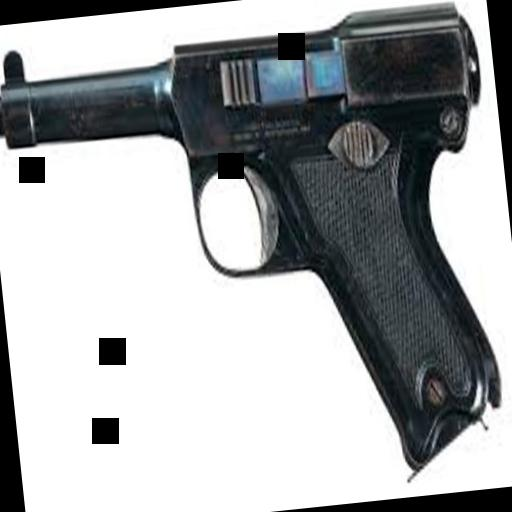Handgun: (0, 0, 512, 494)
